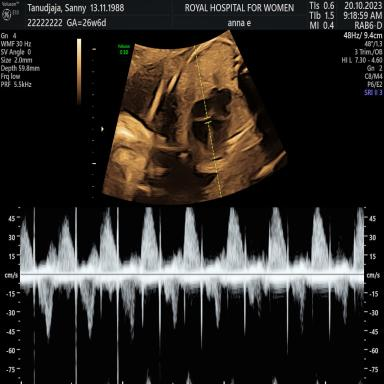Ultrasound-Waves: (28, 204, 361, 384)
